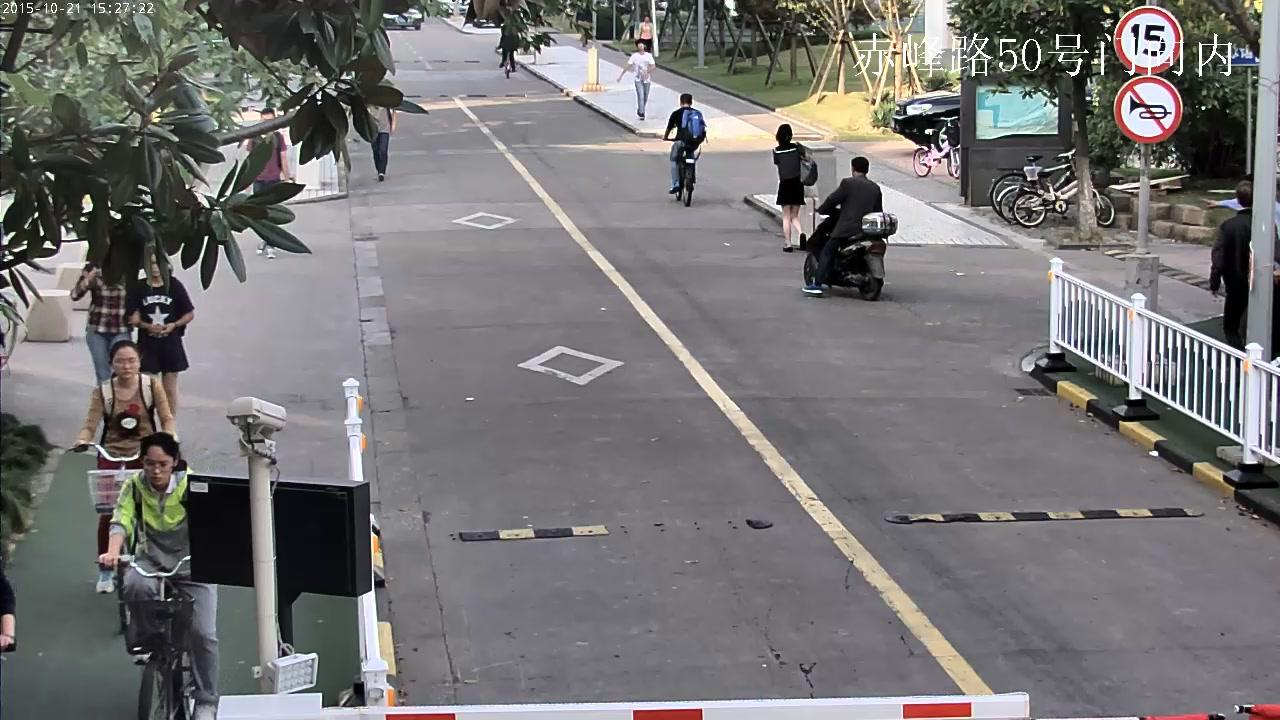face: (142, 446, 172, 486), (112, 347, 138, 377), (149, 251, 158, 277), (259, 113, 274, 118), (636, 43, 644, 50), (644, 15, 650, 22)
